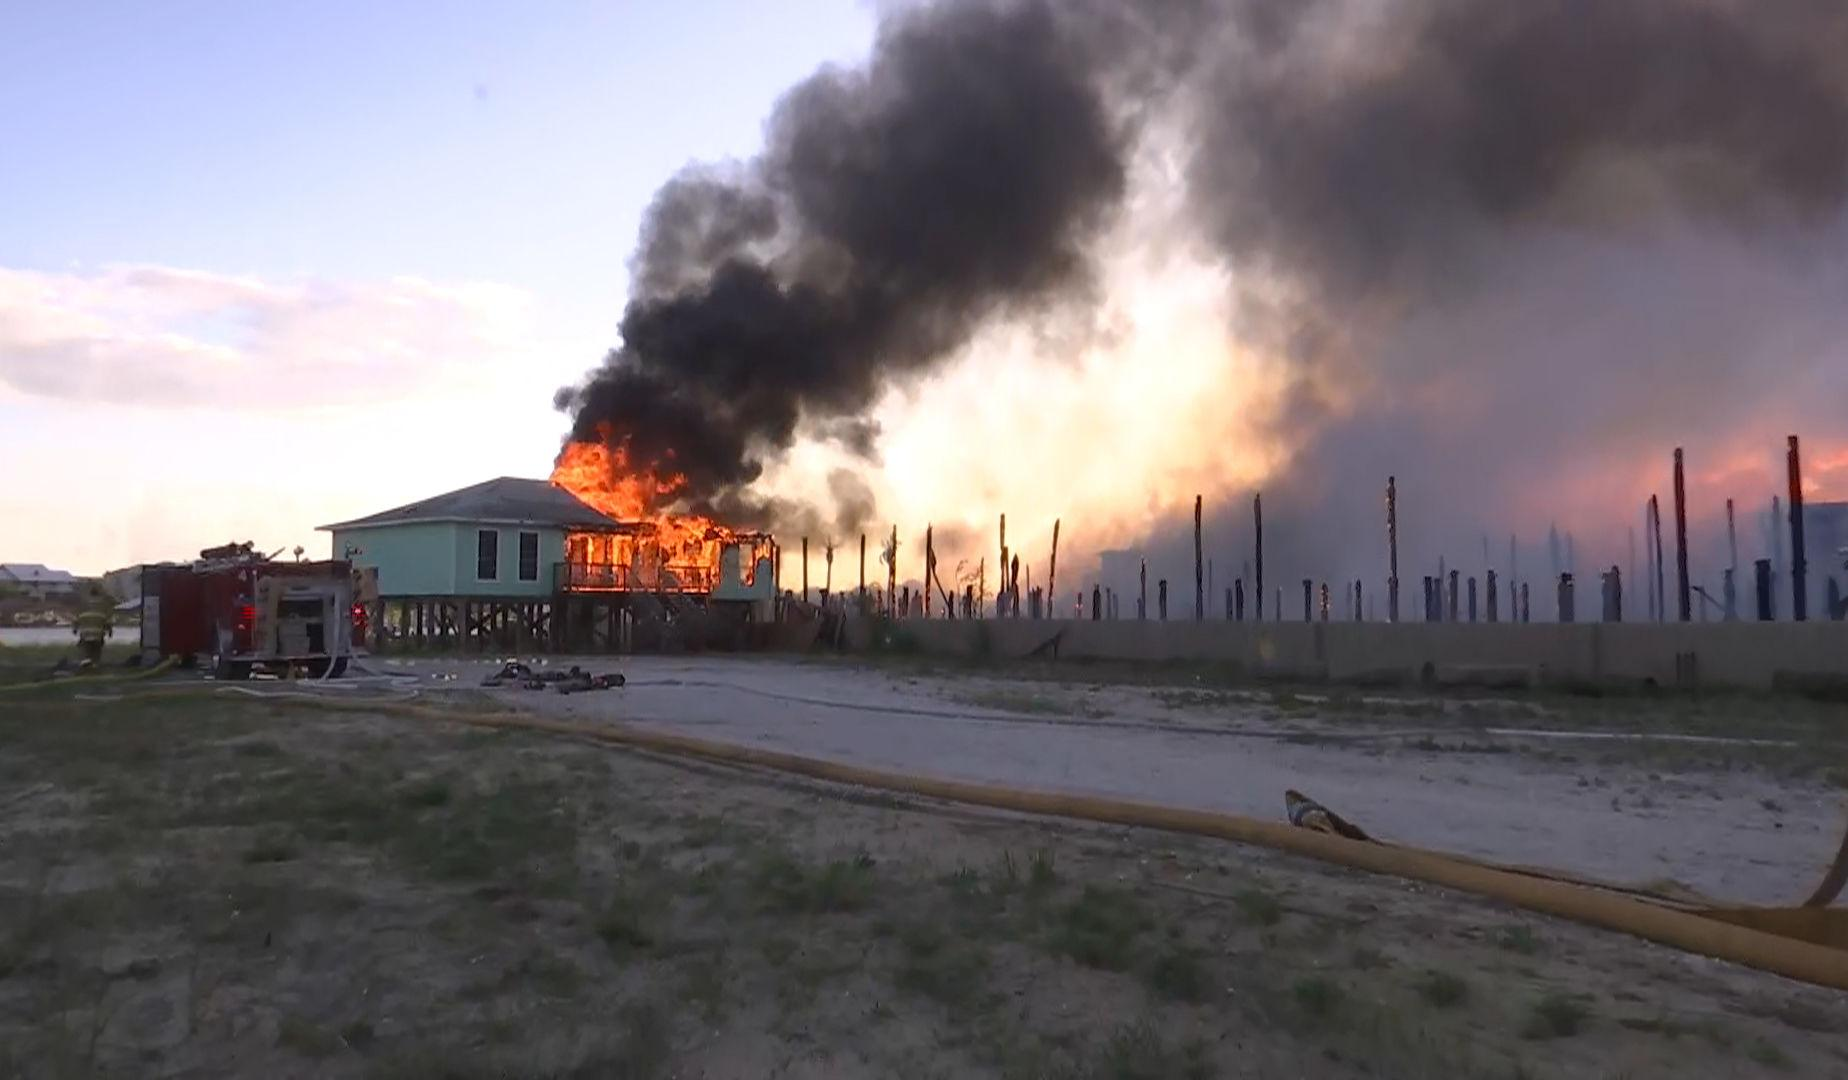Fire: (544, 417, 757, 600)
